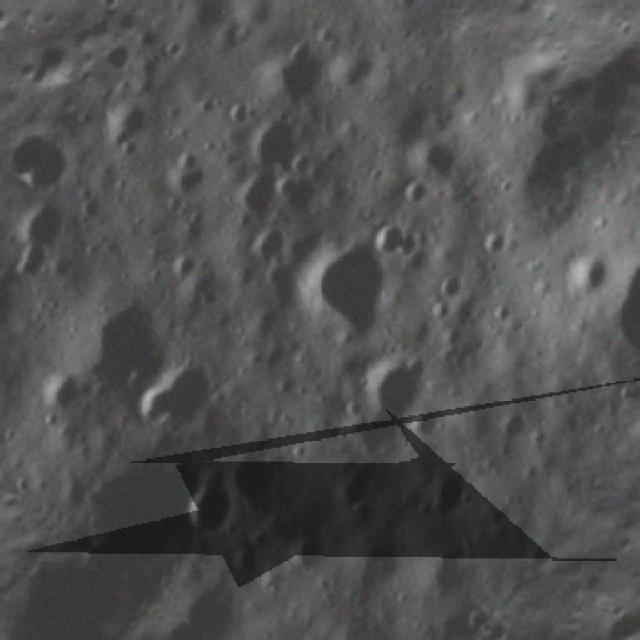crater: (56, 273, 192, 409), (293, 223, 416, 346), (124, 335, 239, 454), (580, 192, 640, 385), (0, 186, 89, 286), (168, 454, 254, 544), (259, 27, 344, 111), (547, 232, 625, 313), (364, 348, 439, 427), (412, 453, 483, 527), (222, 159, 292, 227), (28, 353, 97, 421), (271, 516, 335, 579), (94, 92, 158, 154), (249, 114, 314, 175), (0, 244, 35, 343), (191, 0, 338, 22), (25, 143, 80, 200), (162, 147, 215, 201), (488, 396, 540, 450), (214, 82, 266, 135), (456, 586, 506, 637), (249, 220, 297, 272), (62, 512, 109, 554), (398, 172, 438, 212), (425, 288, 463, 328), (108, 38, 144, 80), (131, 19, 169, 58), (408, 405, 446, 443), (165, 245, 202, 283), (336, 384, 372, 422), (390, 623, 470, 640), (437, 265, 474, 300), (487, 296, 522, 333), (481, 224, 517, 259), (288, 431, 320, 464), (389, 0, 429, 17), (626, 400, 640, 442), (164, 602, 182, 616)
